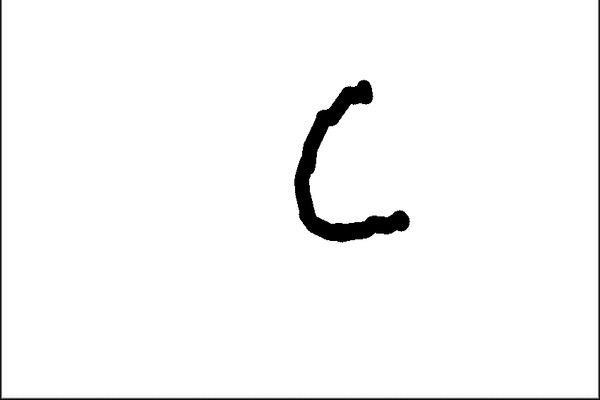C: (287, 73, 416, 246)
